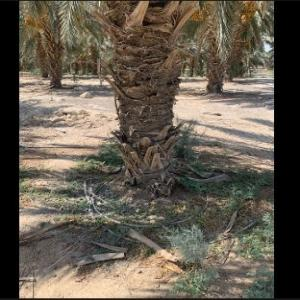palm tree: (21, 0, 272, 182)
